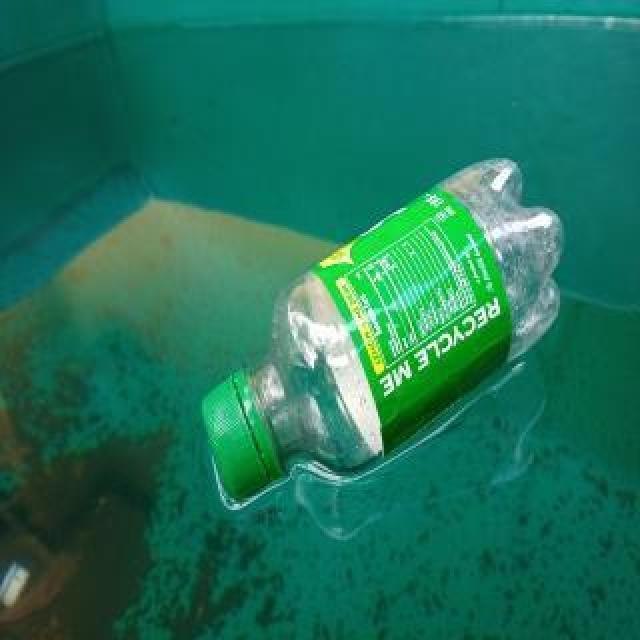plastic: (189, 152, 562, 518)
vinyl: (311, 185, 516, 461)
